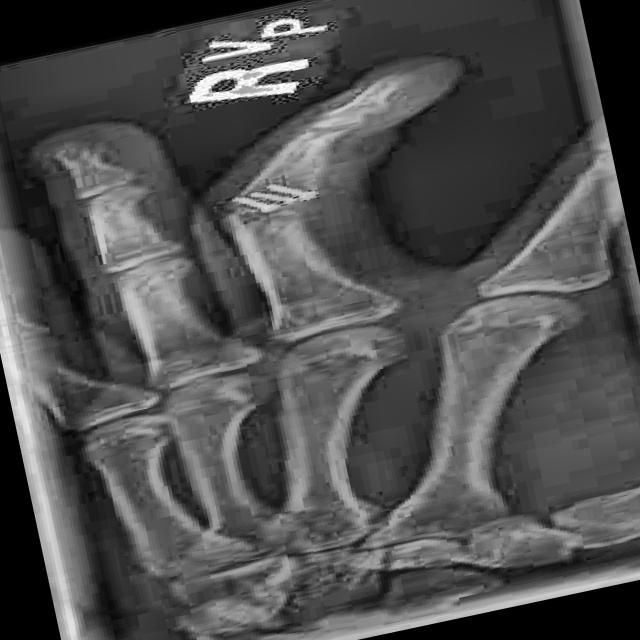fingers positive: (271, 91, 411, 184), (209, 202, 326, 241)
